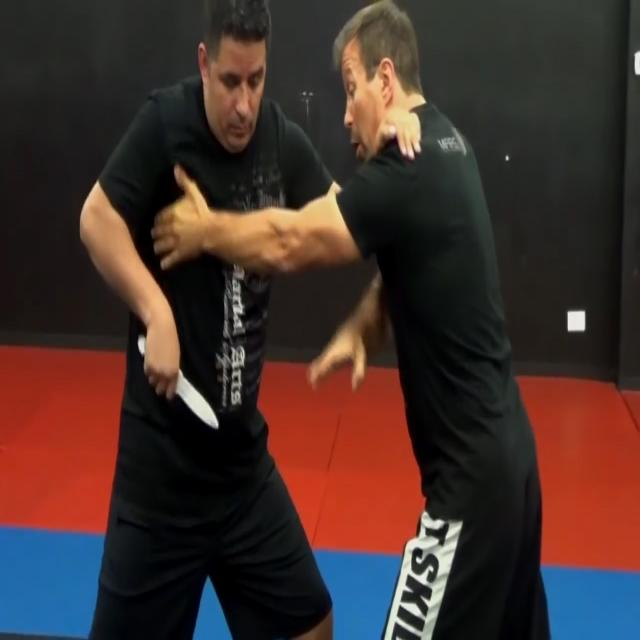knife: (177, 363, 224, 438)
